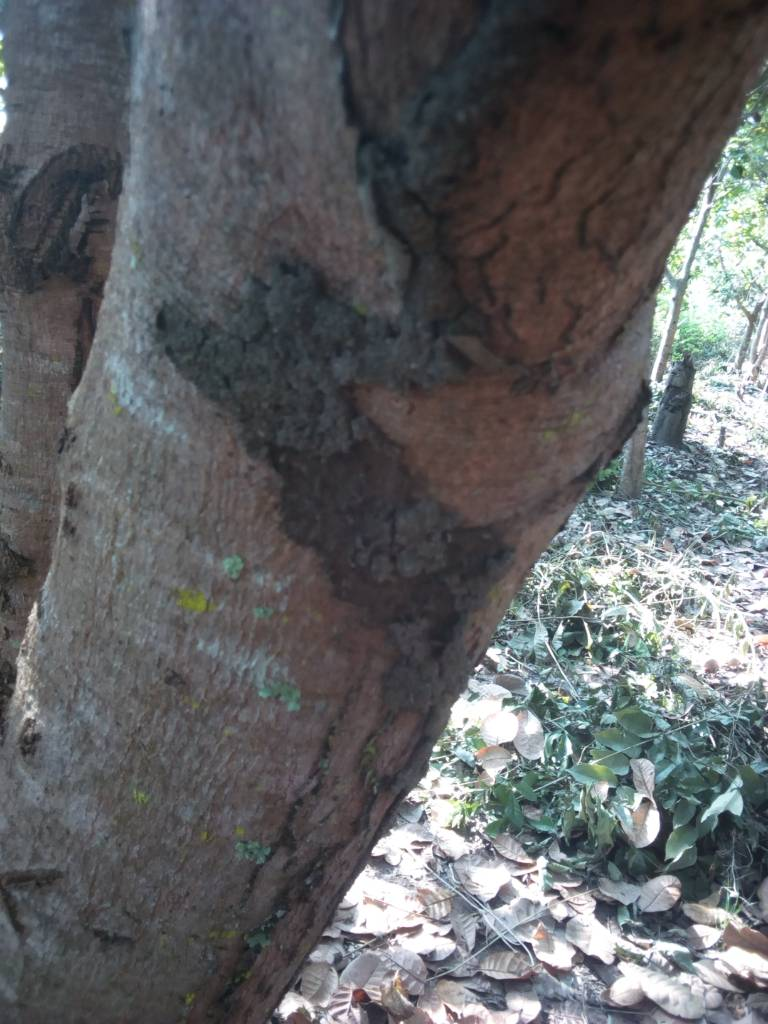Termites: (280, 42, 532, 741)
